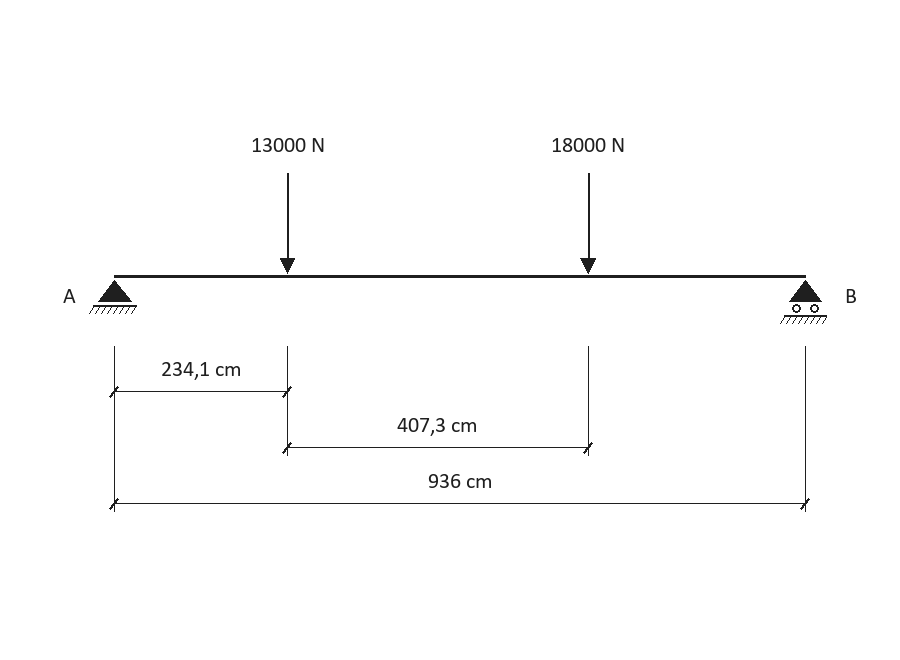pin_support: (89, 280, 137, 314)
point_load: (580, 173, 596, 274), (280, 173, 295, 274)
roller_support: (780, 280, 827, 324)
